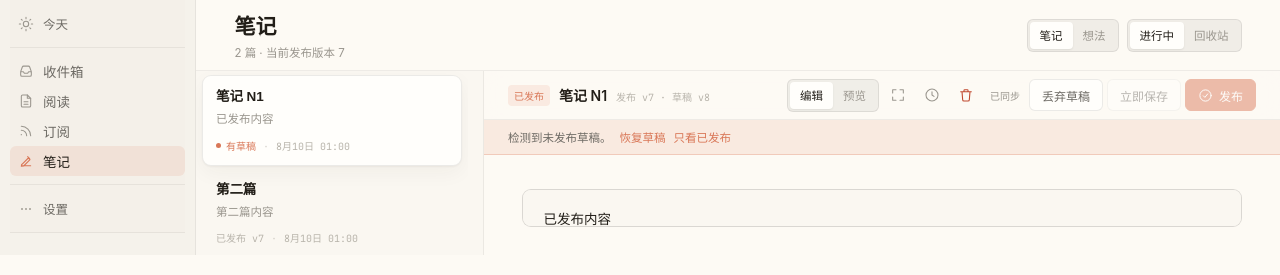
Test: NotesSurface draft barriers › automatically discards an empty draft when leaving the note normally
The image size is (1280, 275).
Expected: the text box named "笔记内容" is shown, [522,189,1242,227]
Click the button "第二篇 第二篇内容 已发布 v7 8月10日 01:00" at (236, 189), box [202,168,462,258]
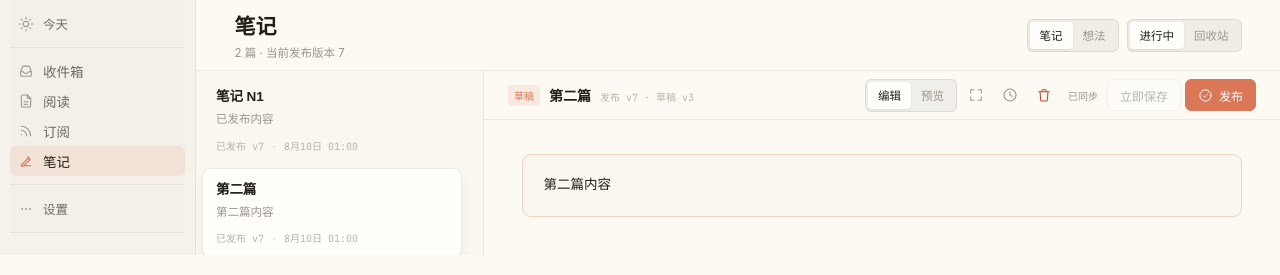
Expected: the text box named "笔记内容" holds "第二篇内容", [522,154,1242,217]
